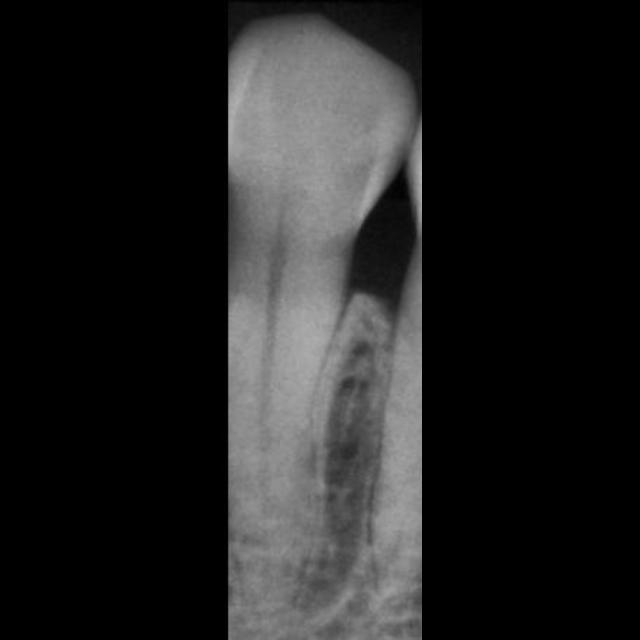tooth: (228, 12, 420, 614)
